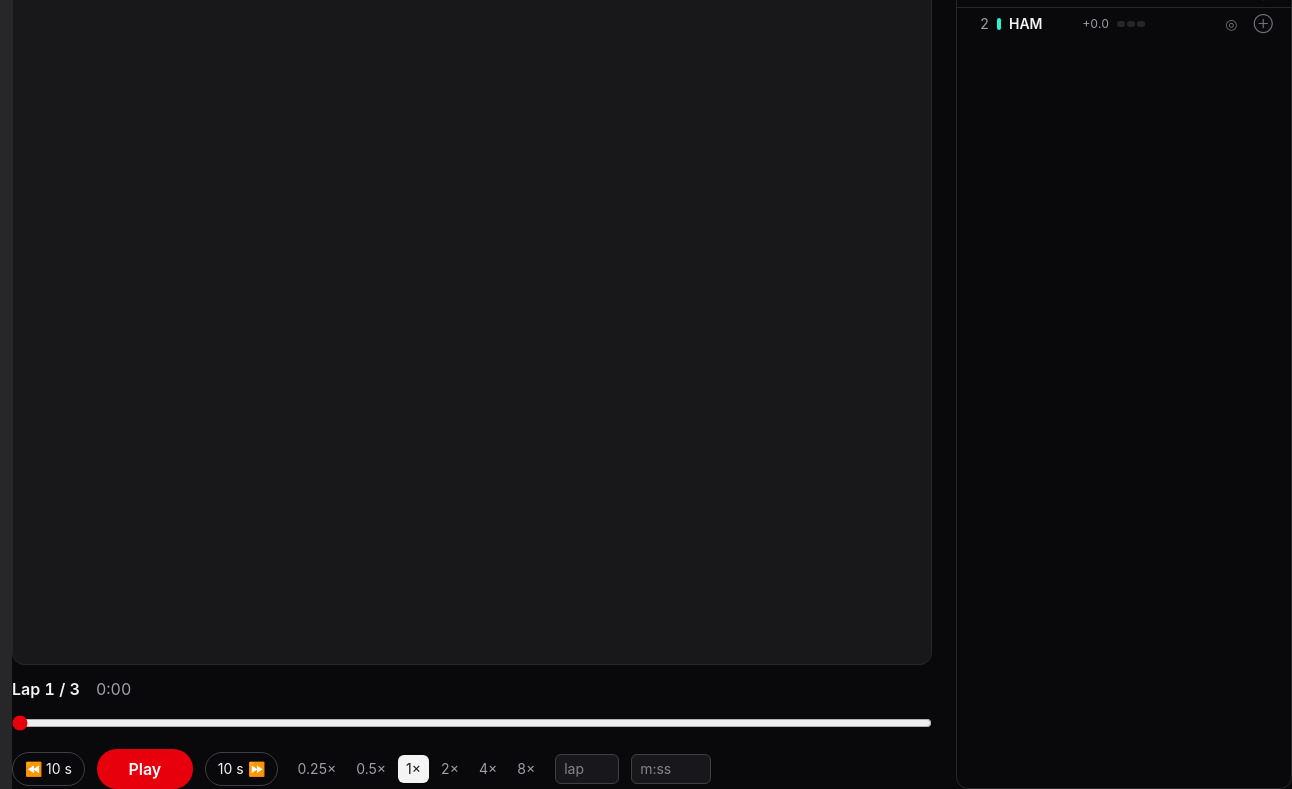
Test: the controls drive the clock › a jump to a lap shows that lap
(page scrolled)
Type "3" into the field named "Jump to lap".
click(587, 768); type("3")  # box [555,754,619,784]
Then press Enter
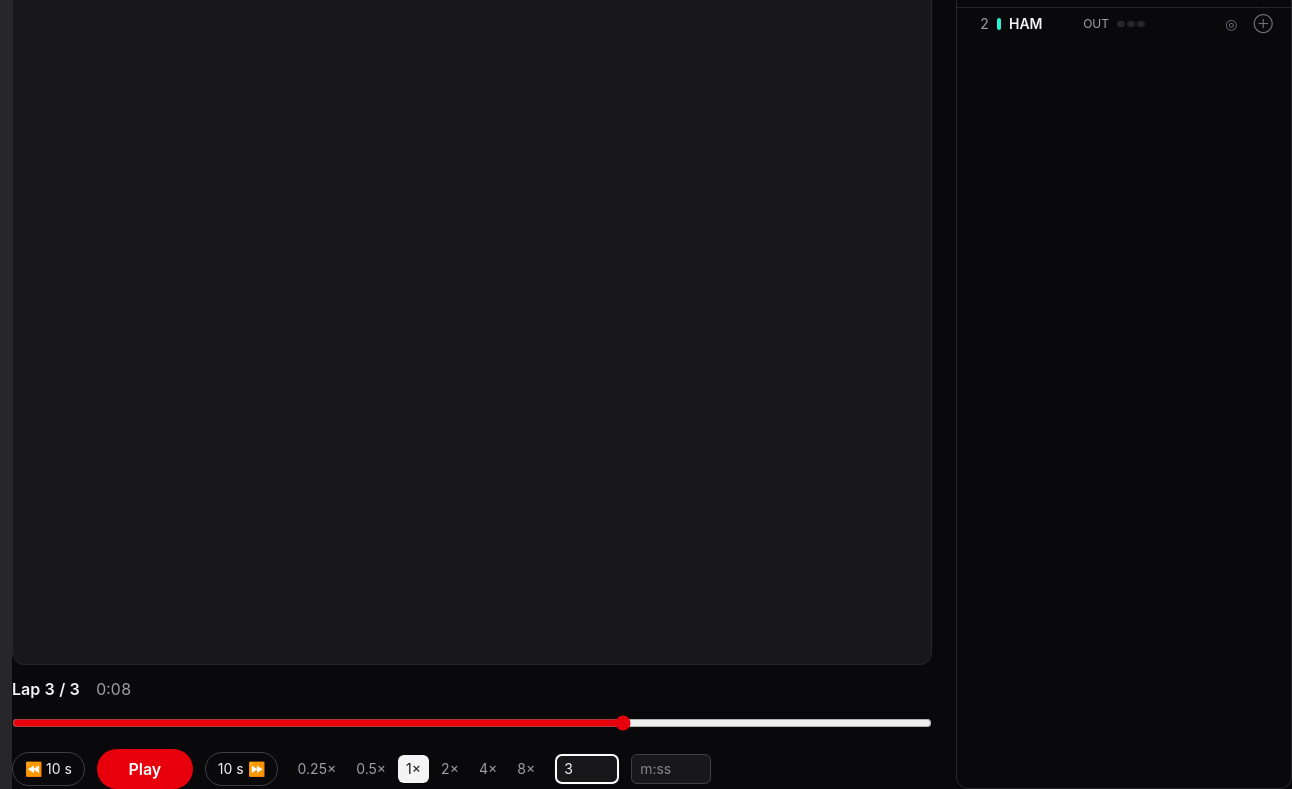
Expected: the text with test id "lap-counter" reads "Lap 3 / 3", [12,676,80,700]
Expected: the text with test id "race-time" reads "0:08", [96,678,131,698]
